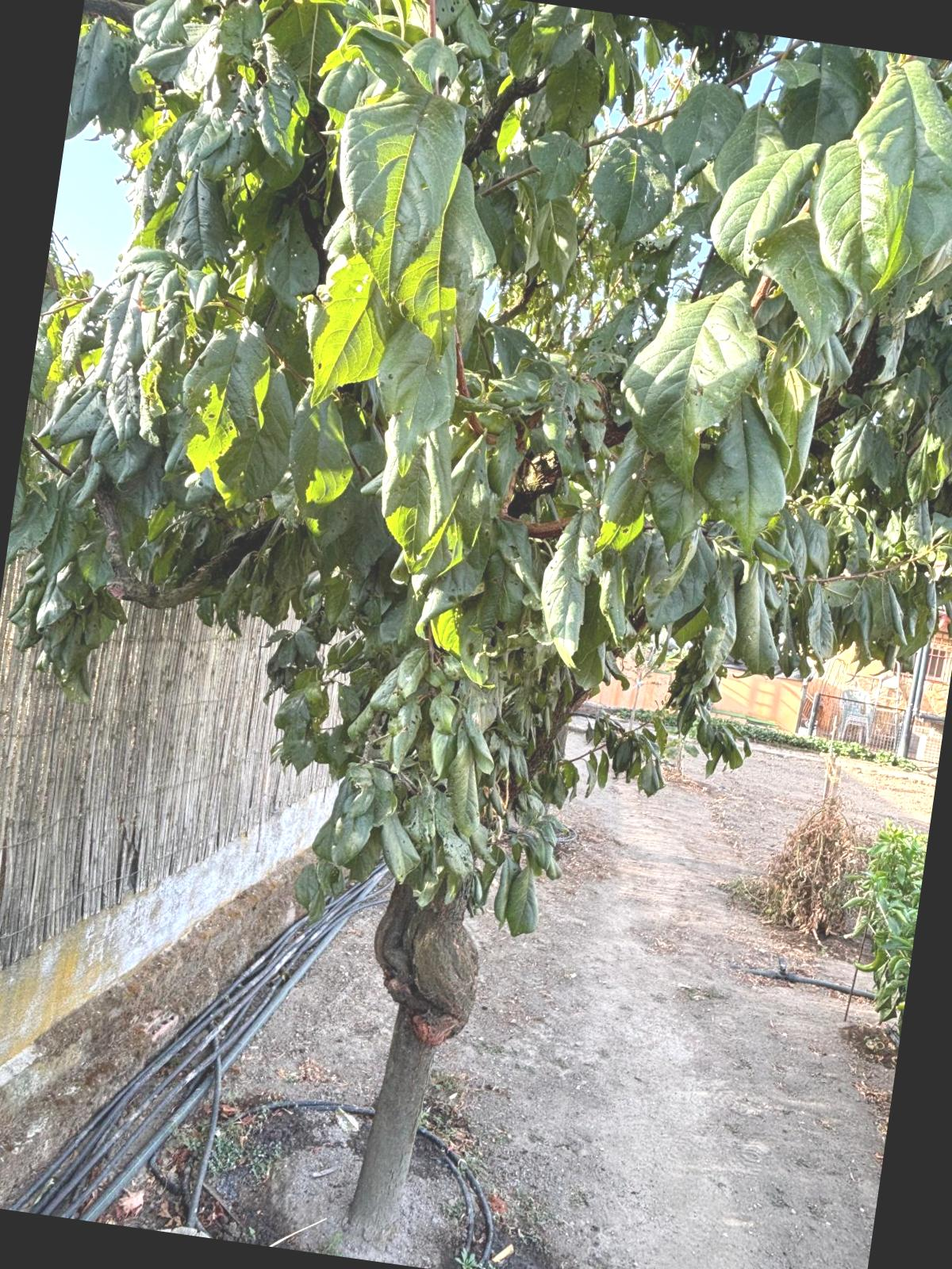ciruelo: (57, 85, 877, 1269)
